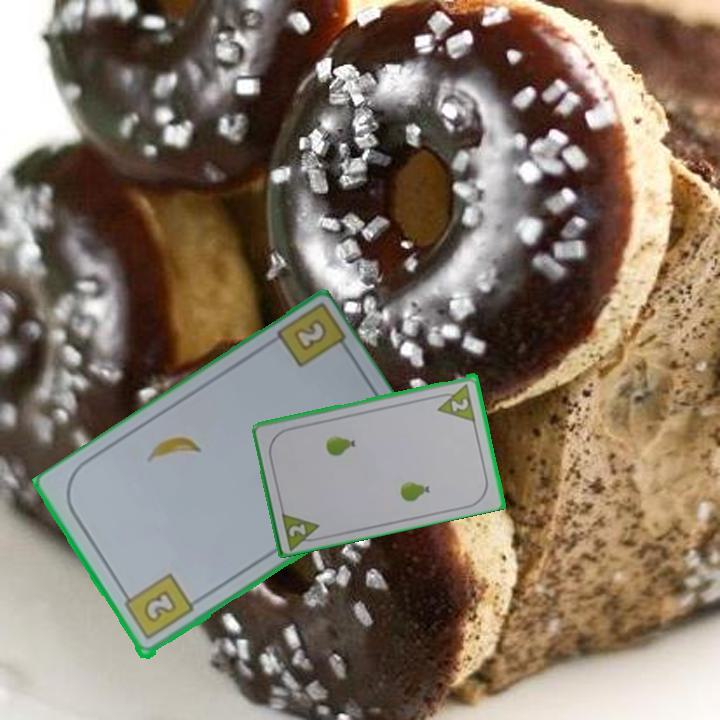2b: (118, 570, 196, 643), (289, 319, 327, 355)
2p: (448, 394, 472, 414), (285, 520, 309, 539)
